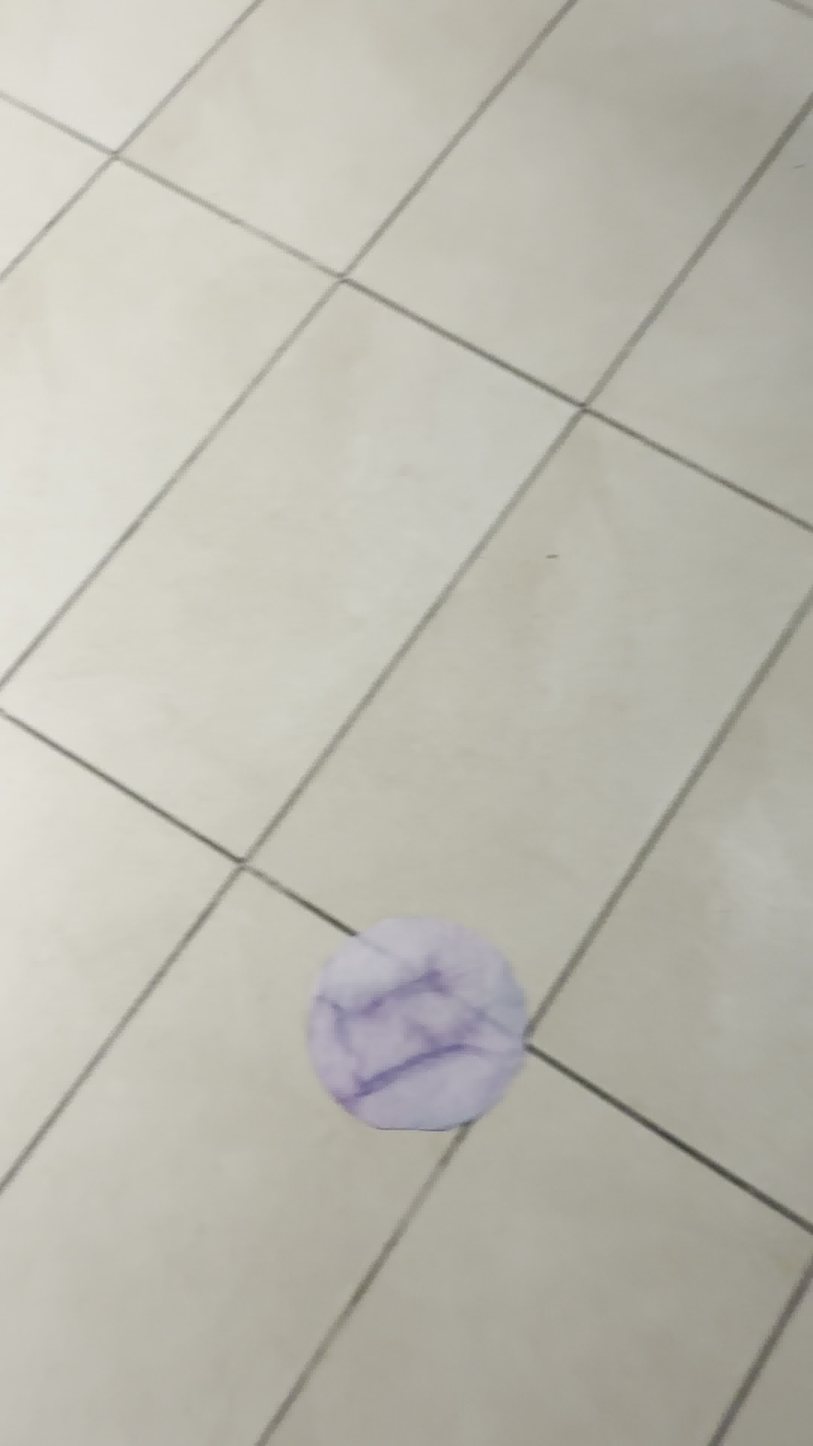Target: (306, 919, 527, 1132)
